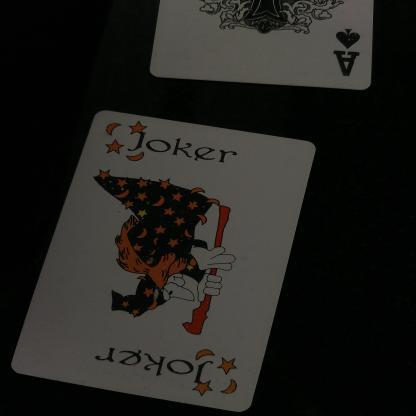BLACK JOKER: (82, 112, 274, 178), (68, 336, 262, 398)
